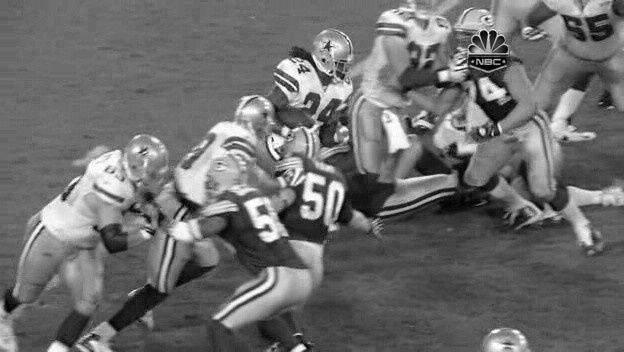person: (318, 30, 353, 75), (317, 30, 352, 75), (319, 30, 354, 75), (318, 29, 353, 74), (318, 31, 353, 76)
target_negative: (10, 6, 456, 252), (98, 227, 340, 336), (423, 118, 614, 216), (169, 134, 292, 209), (64, 140, 139, 211), (617, 90, 620, 232)
